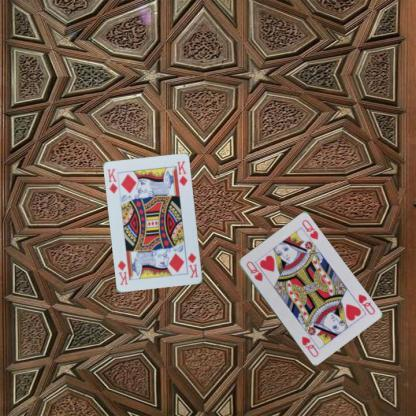Kd: (185, 250, 200, 279), (104, 166, 119, 195)
Qh: (355, 291, 376, 316), (244, 258, 264, 283)
